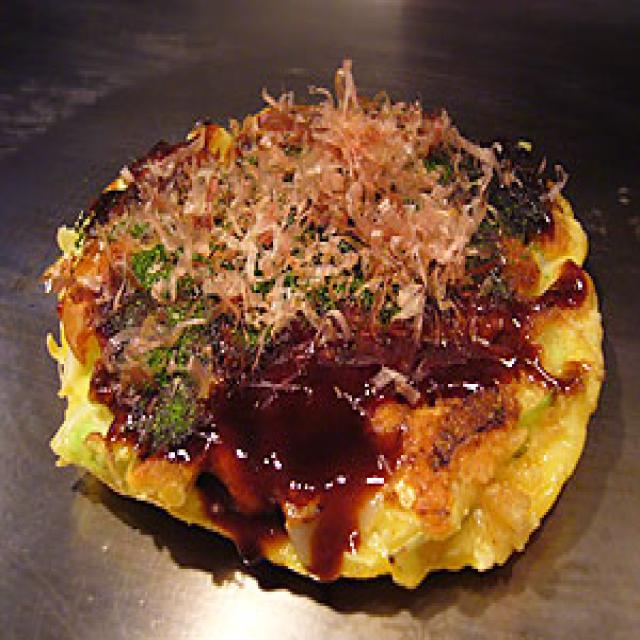蛋糕甜品: (58, 102, 602, 589)
